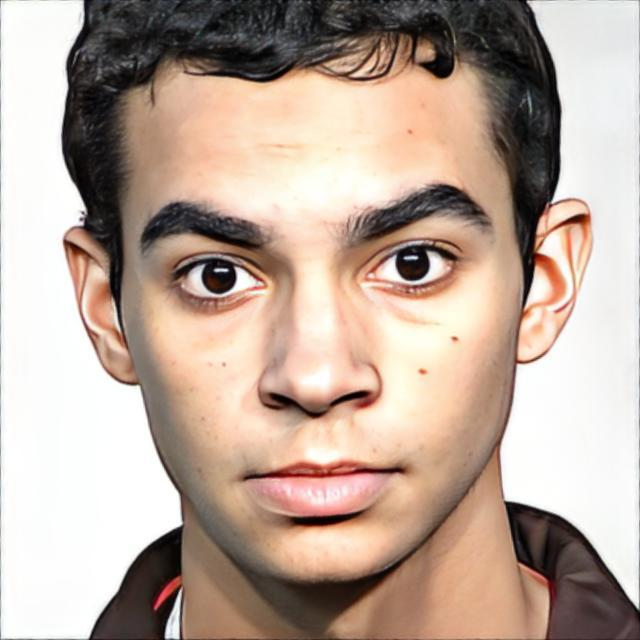surprise: (116, 29, 519, 588)
